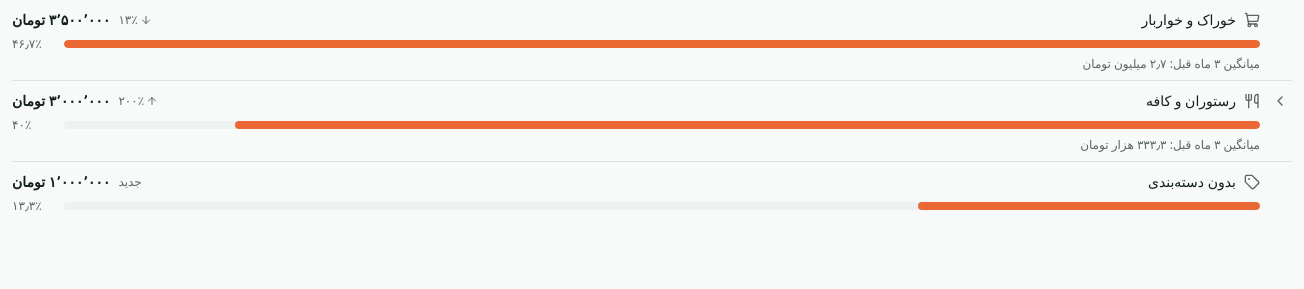
Test case: CategoryBreakdown › ranks categories with shares, changes and links to their transactions
The image size is (1304, 289).
Expected: the text "۴۶٫۷٪" is shown, [12,35,42,52]
Expected: the element showing "۱۳٪" is shown, [118,12,152,28]
What coordinates should you click on to do the following:
click the button named "زیرمجموعه‌های رستوران و کافه"
I would click on:
 (1280, 101)
Its box is [1268,89,1292,113].
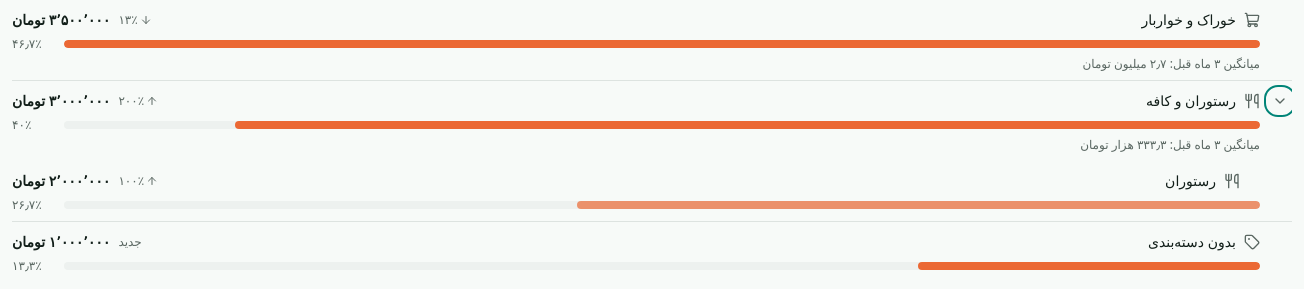
Expected: the link "رستوران" is shown, [1165,171,1216,191]
